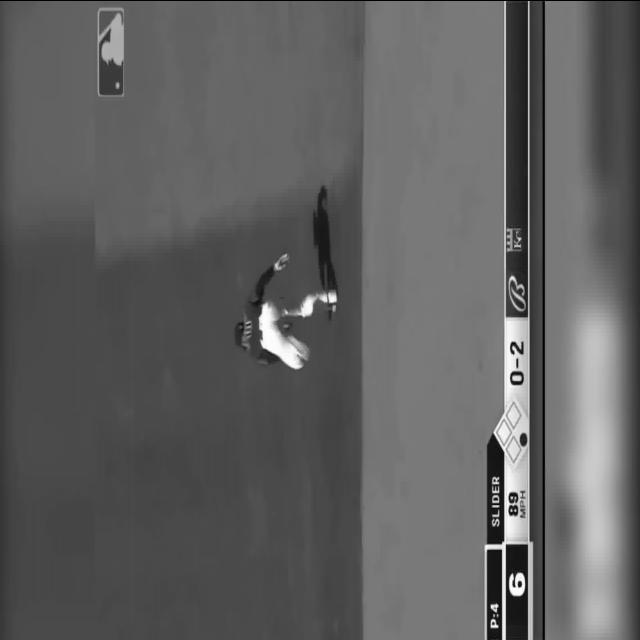shoe: (286, 333, 310, 361), (327, 288, 337, 304), (331, 303, 336, 312)
